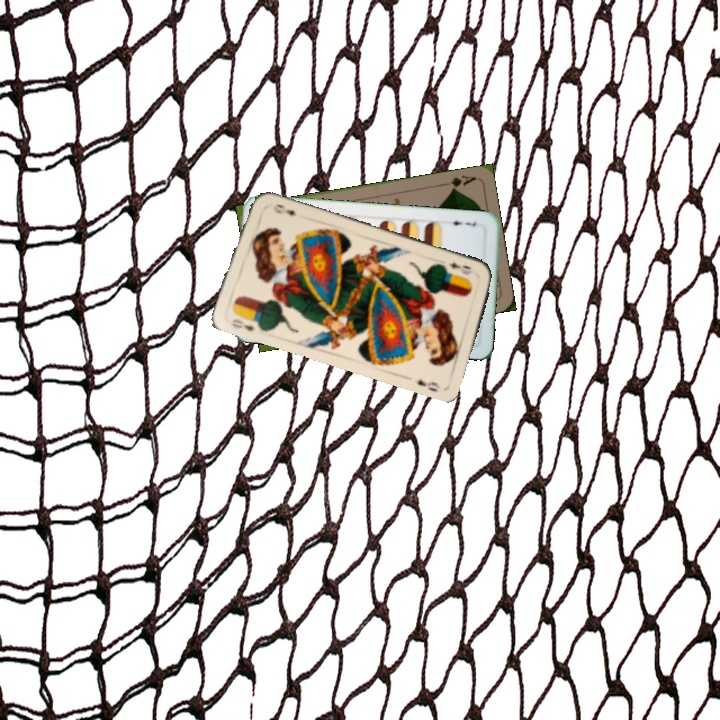E7: (445, 217, 480, 229)
EO: (444, 258, 474, 277), (227, 315, 257, 334)
GA: (438, 171, 478, 193)
